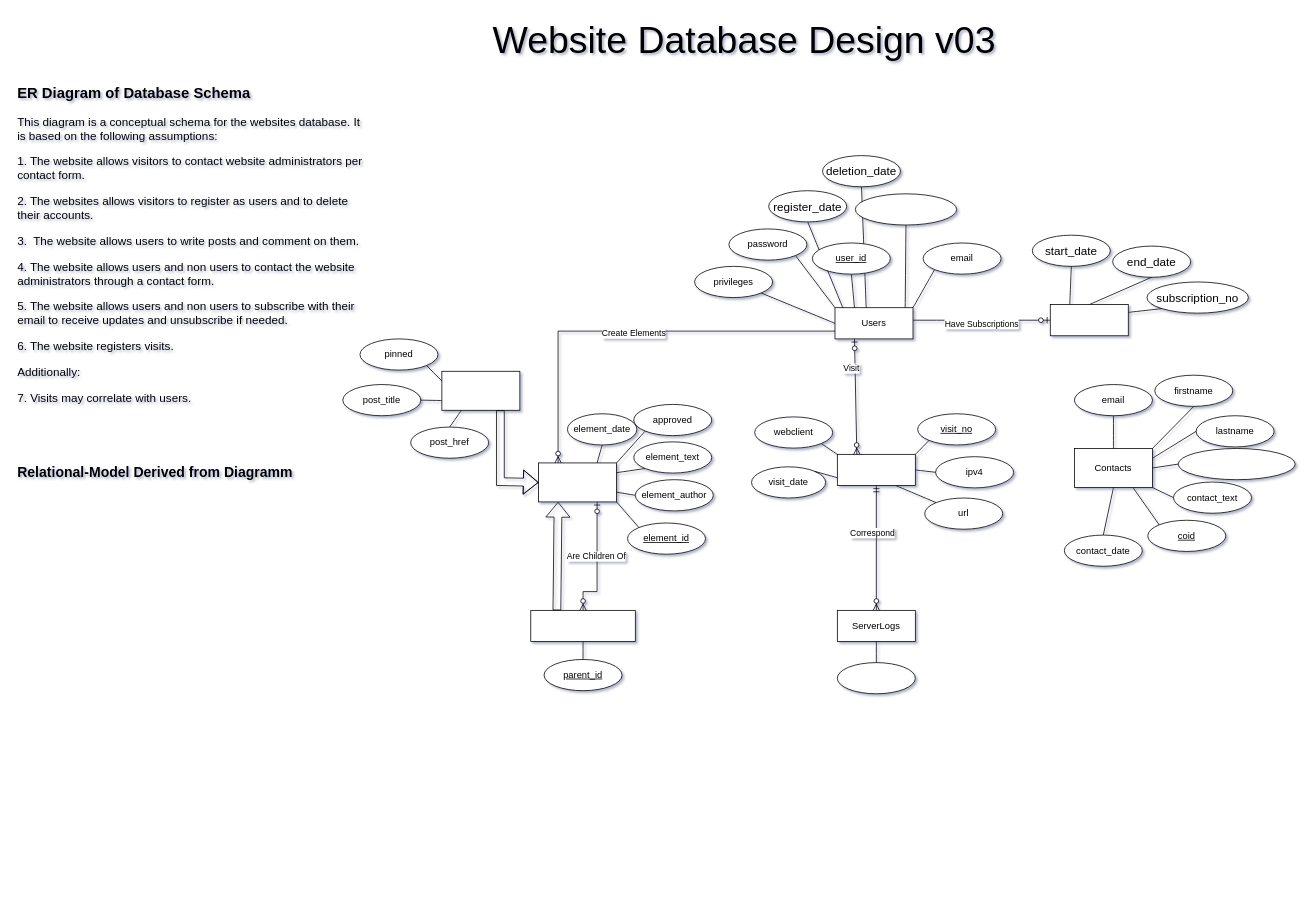
Some shapes in this 1314 by 902 pixel diagram are drawn without their labels. Here are the shapes that lost their labels. From the top down, the centre of each, then its label:
At (905,209): "email_confirmed".
At (1088,320): "Subscriptions".
At (480,390): "UpdatePosts".
At (577,482): "UpdateElements".
At (876,470): "PageVisits".
At (1236,464): "organization".
At (582,626): "UpdateComments".
At (876,678): "log_no".
